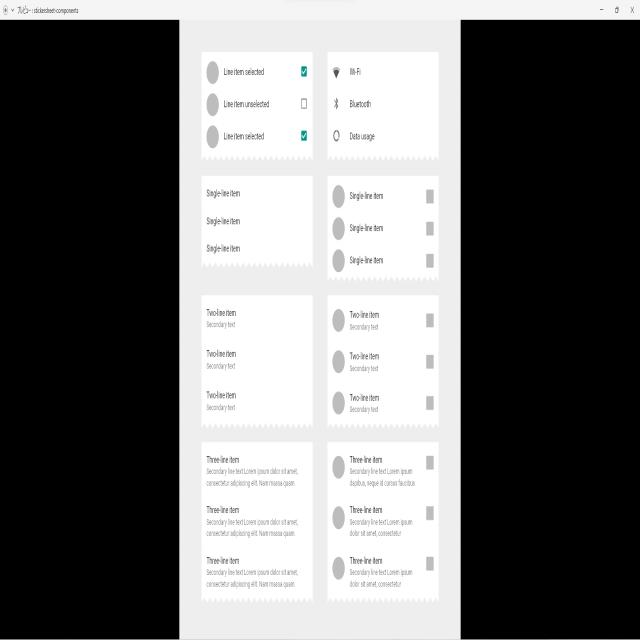checkbox: (299, 66, 308, 77), (301, 129, 307, 140)
